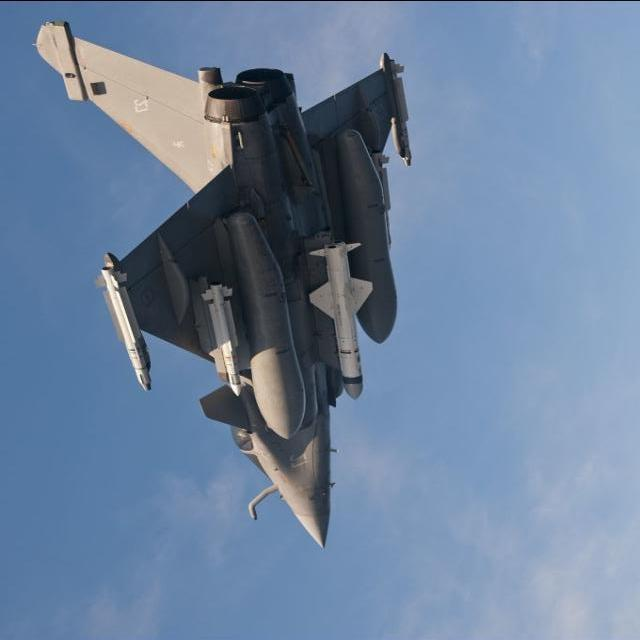Missile: (322, 238, 366, 400)
